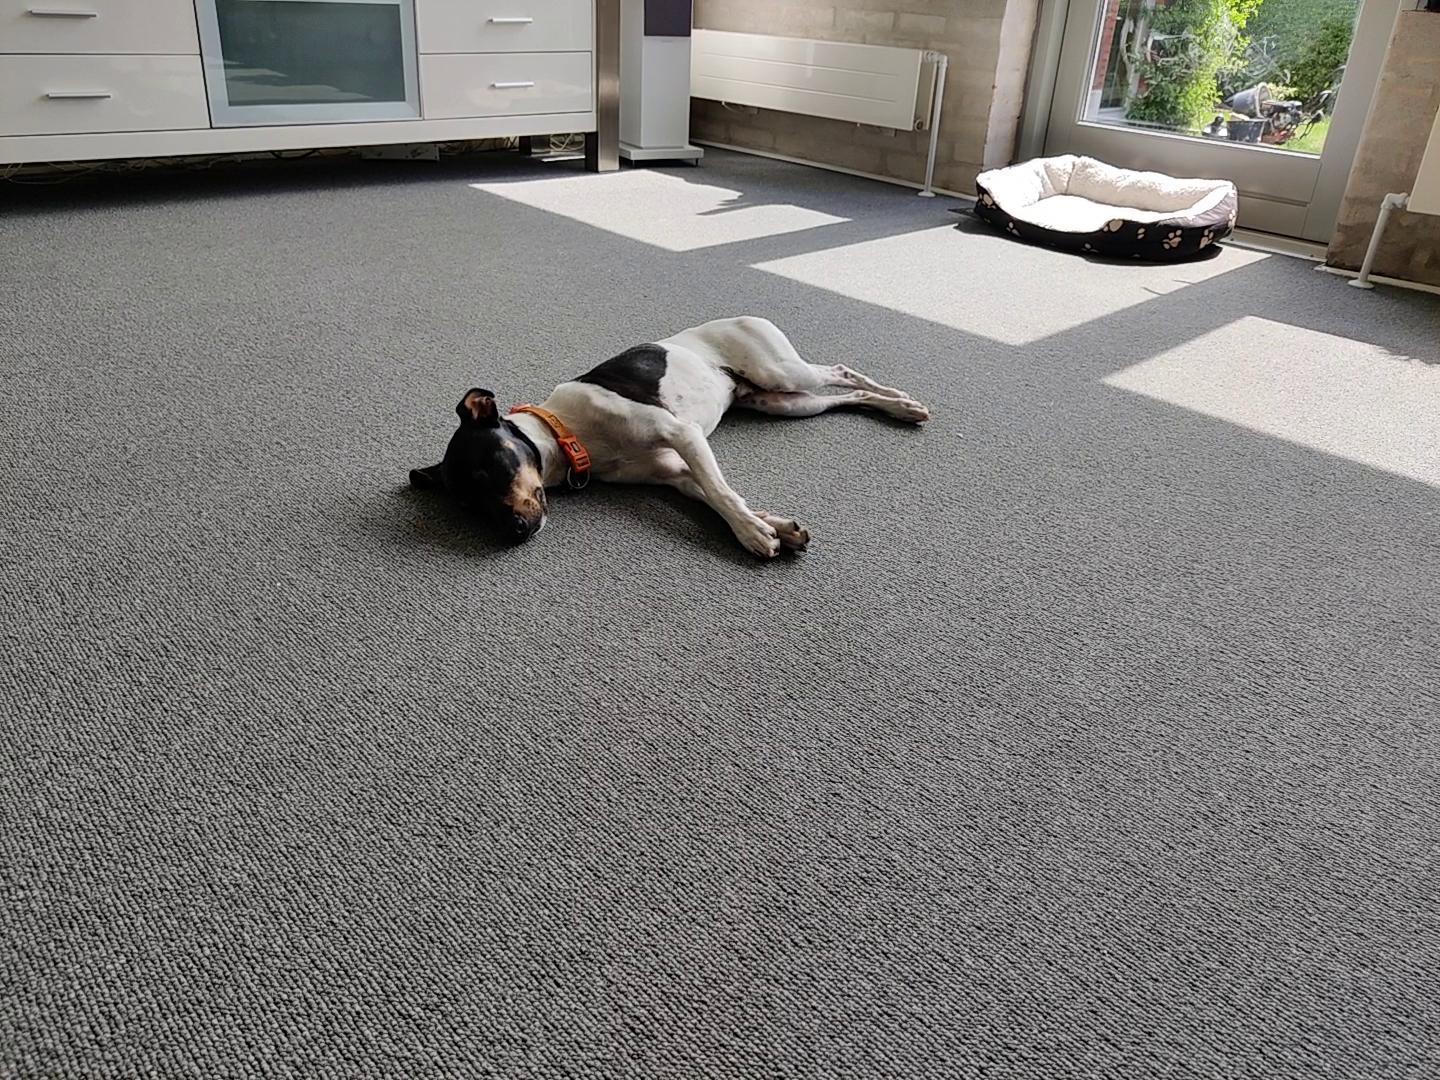Dog: (404, 310, 932, 563)
